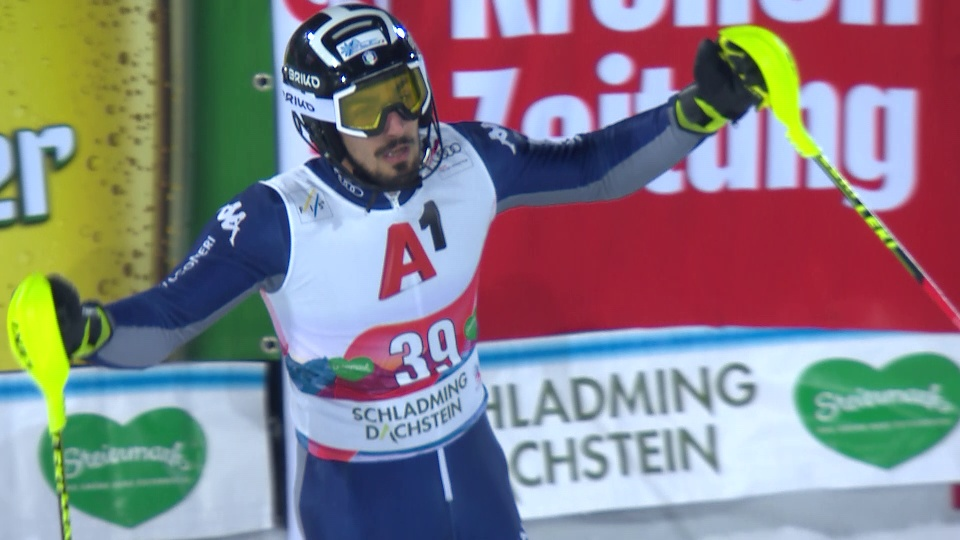a1: (371, 205, 459, 303)
kronenezeitung: (301, 1, 932, 255)
schladming: (483, 355, 754, 492), (342, 388, 470, 452)
steiermark: (50, 416, 220, 516), (796, 372, 959, 473), (324, 352, 377, 384)
